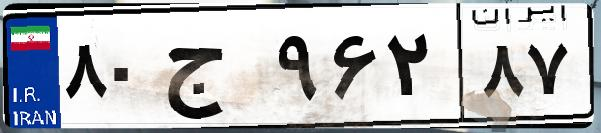0: (110, 28, 158, 98)
2: (385, 28, 445, 110)
6: (330, 28, 385, 110)
7: (525, 38, 570, 115)
8: (57, 26, 110, 100), (475, 38, 525, 113)
9: (270, 28, 330, 110)
ج: (158, 20, 270, 120)
